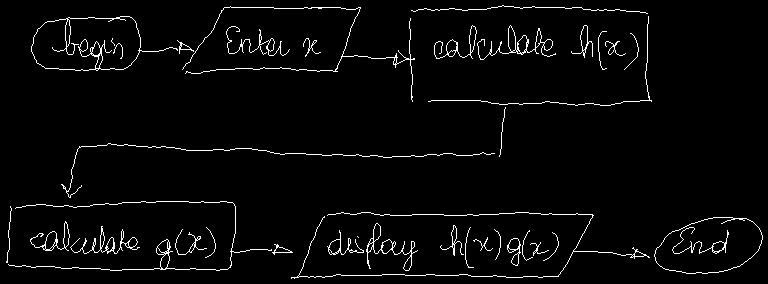arrow: (61, 107, 505, 197), (341, 50, 414, 67), (572, 247, 649, 258), (138, 40, 193, 53), (230, 244, 292, 254)
data: (291, 212, 593, 278), (182, 6, 360, 73)
process: (409, 5, 651, 105), (6, 201, 235, 270)
terminator: (654, 217, 762, 273), (31, 16, 140, 70)
text: (327, 223, 558, 270), (434, 25, 638, 69), (30, 221, 215, 269), (52, 19, 122, 70), (226, 26, 320, 56), (672, 227, 728, 253)
